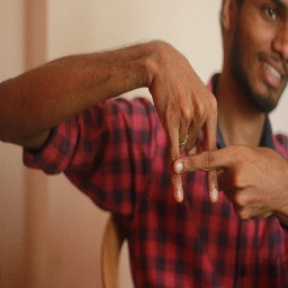H: (137, 107, 250, 221)
